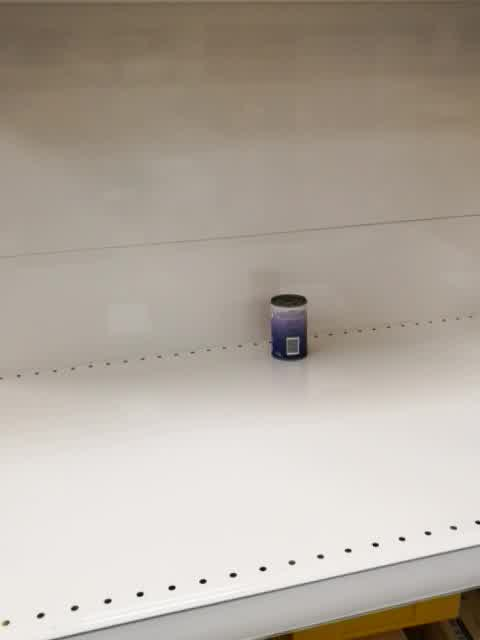sardine: (269, 294, 310, 363)
